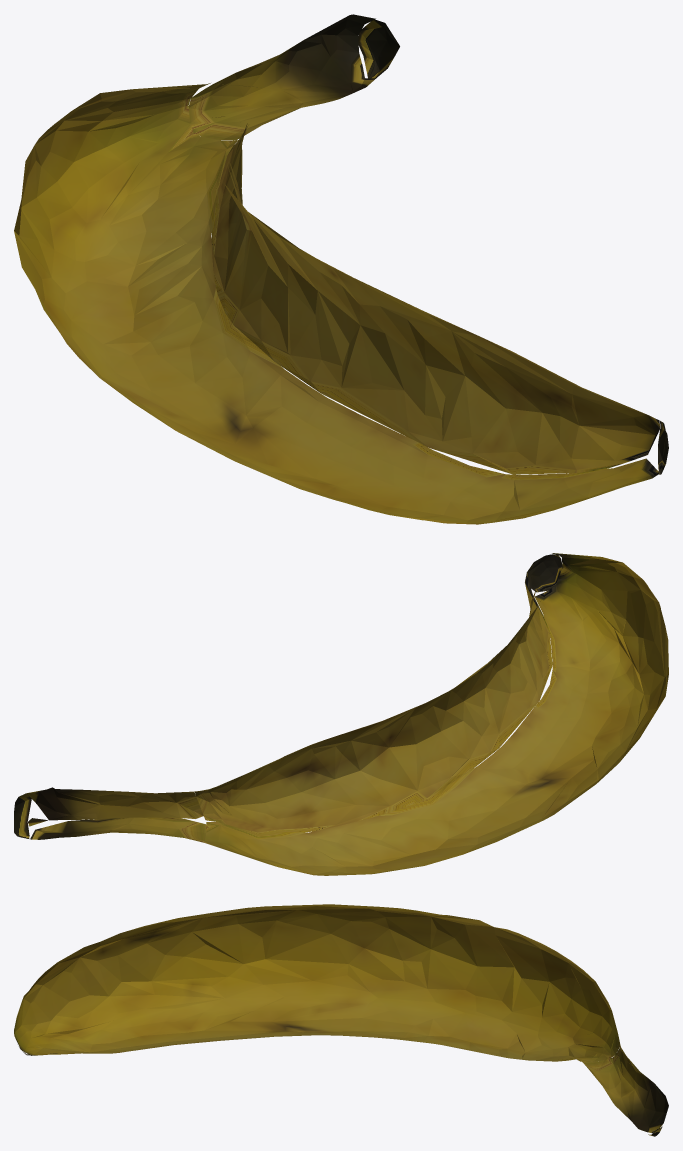
The model's file is food_produce_banana_j01.glb.
3 views of the same model, one above another, from view 1: azimuth 30°, elevation 25°; view 2: azimuth 150°, elevation 25°; view 3: azimuth 270°, elevation 25° (orthographic). The views are drawn at different scales.
Visible parts, largest first — view 1: geometry_0; view 2: geometry_0; view 3: geometry_0.
Boxes of the visible parts, left/top/right/bottom form: geometry_0: left=14, top=14, right=668, bottom=524; geometry_0: left=14, top=553, right=668, bottom=875; geometry_0: left=14, top=904, right=668, bottom=1136.
Bounding box in the file's own units: 0.2512 × 0.0816 × 0.42.
Materials: 1 (1 with a texture image).
